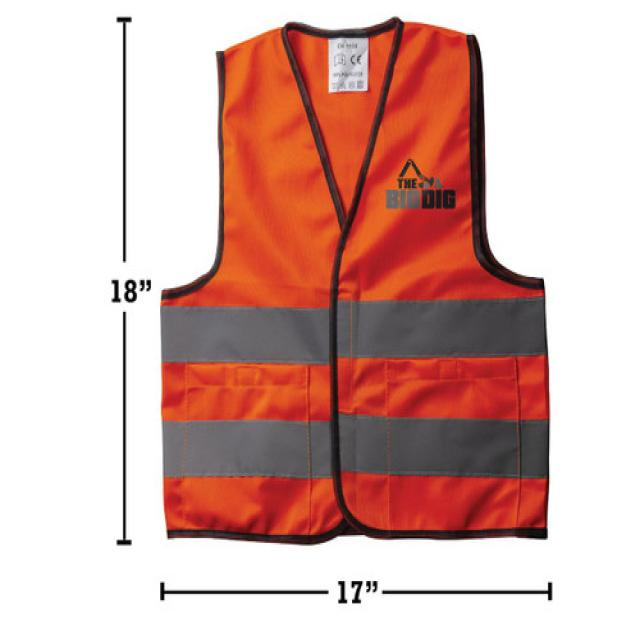vest: (154, 16, 556, 547)
